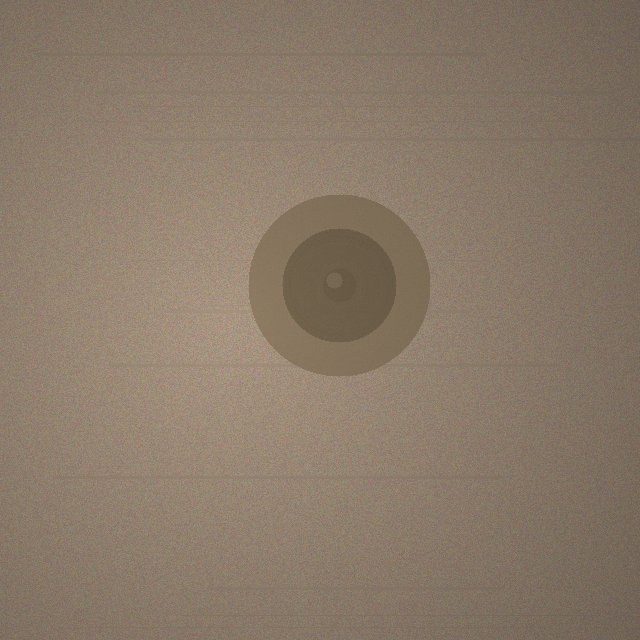good: (248, 194, 430, 376)
